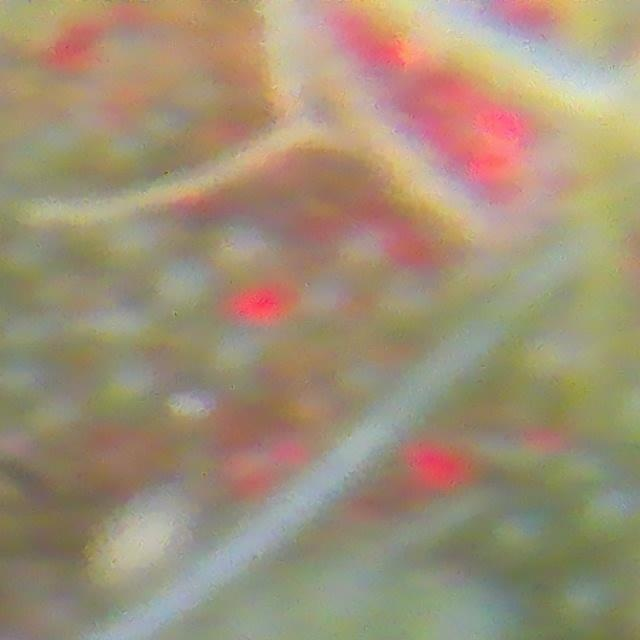SeaGrape: (549, 558, 628, 637), (485, 499, 563, 574), (574, 479, 640, 549)
